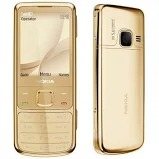nokia: (10, 2, 78, 156), (92, 1, 148, 155)
